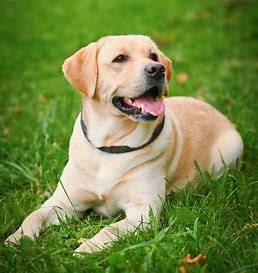dog: (14, 28, 243, 253)
